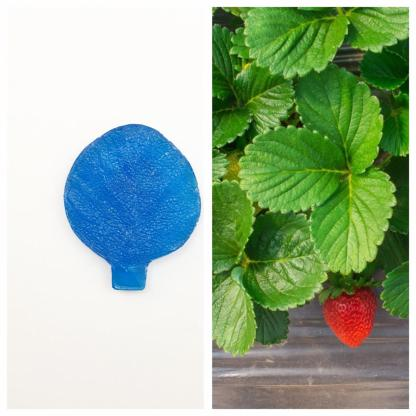Strawberry leaf: (239, 206, 334, 327), (294, 58, 389, 177), (305, 170, 396, 278), (233, 3, 348, 80), (239, 135, 347, 215)
